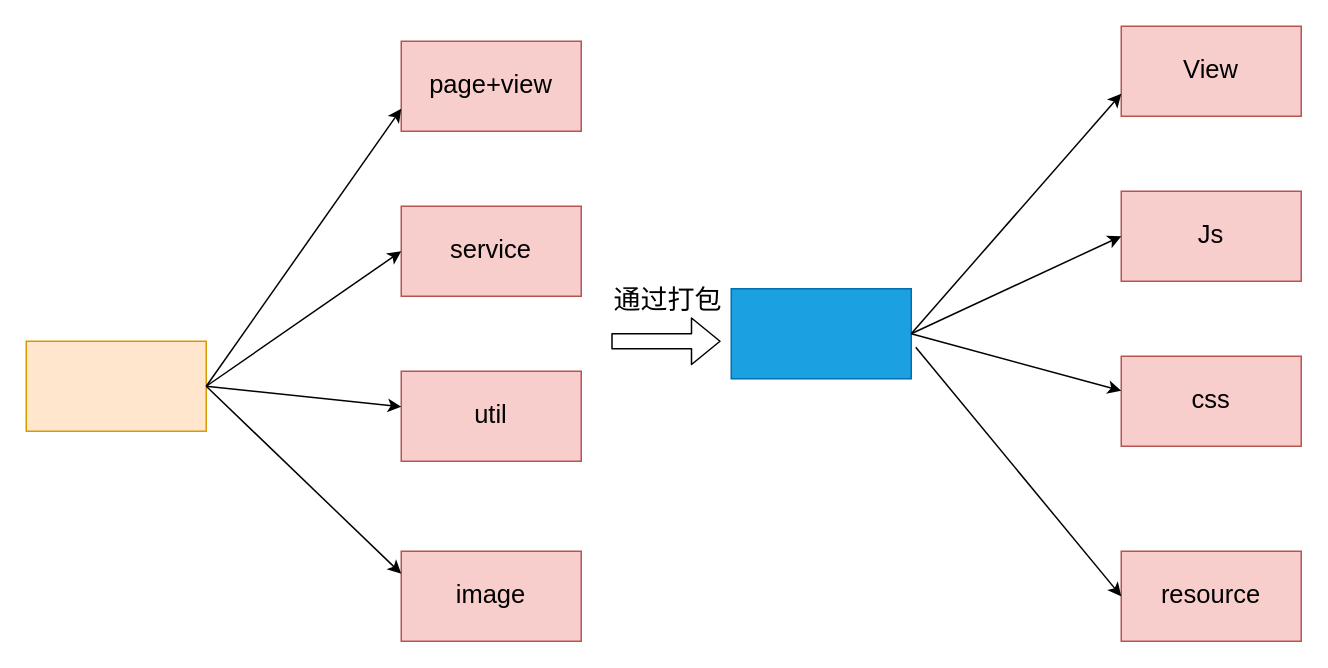
The diagram is 1328 pixels wide and 668 high, and some of its shapes have lost their labels. The shapes that lost their labels are listed below. From the top down, each one's centre as x and y in pixels, then its label:
At point 820,333: "dist".
At point 115,385: "src".
